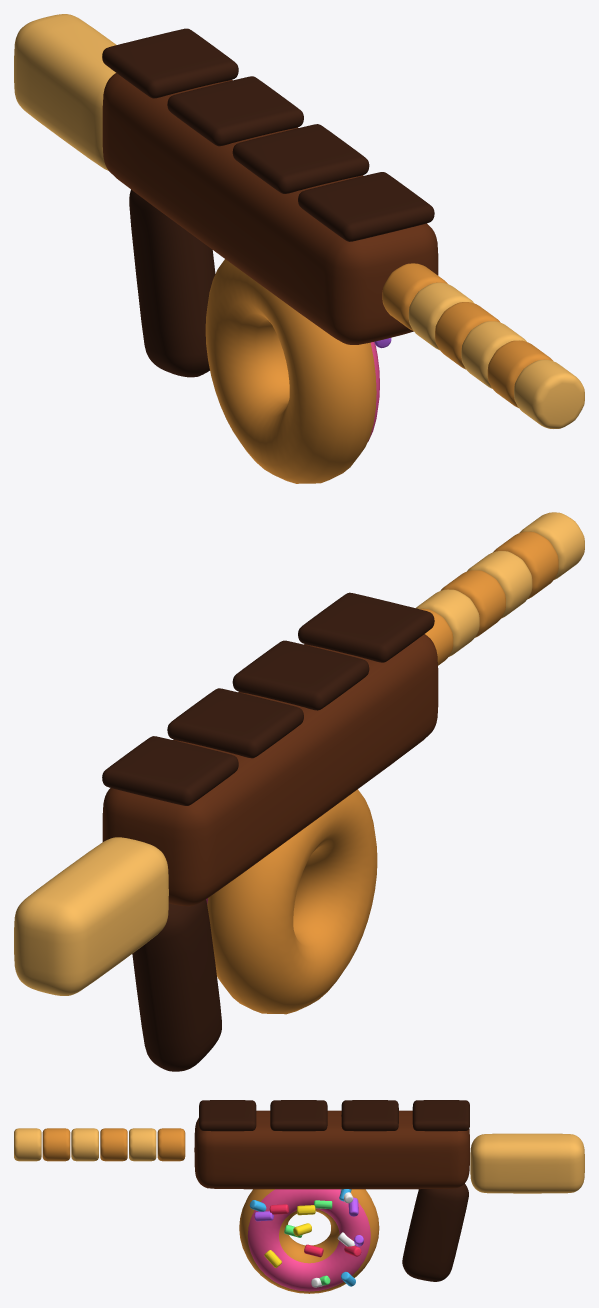
The model's file is SMG7.glb.
The picture shows the model from 3 angles, top to bottom: view 1: azimuth 30°, elevation 25°; view 2: azimuth 150°, elevation 25°; view 3: azimuth 270°, elevation 25°; orthographic projection. The views are drawn at different scales.
Visible parts, largest first — view 1: Cube, Torus, Cube.006, Cube.005, Cube.004, Cube.001, Cube.003, Cube.002, Cylinder.005, Cylinder, Cylinder.001, Cylinder.002 (+2 smaller); view 2: Cube, Torus, Cube.005, Cube.006, Cube.001, Cube.004, Cube.002, Cube.003, Cylinder.002, Cylinder.005, Cylinder.003, Cylinder.004 (+2 smaller); view 3: Cube, Cube.005, Torus.001, Cube.006, Torus, Cube.003, Cube.002, Cube.004, Cube.001, Cylinder.004, Cylinder, Cylinder.001 (+3 smaller).
Part boxes in pixels (x1,y1,x2,y2): Cube: [102, 73, 438, 344]; Torus: [205, 259, 376, 483]; Cube.006: [129, 189, 215, 377]; Cube.005: [14, 14, 116, 170]; Cube.004: [298, 172, 434, 241]; Cube.001: [102, 28, 238, 98]; Cube.003: [232, 124, 369, 193]; Cube.002: [167, 76, 303, 146]; Cylinder.005: [514, 359, 584, 428]; Cylinder: [382, 263, 447, 330]; Cylinder.001: [408, 282, 474, 350]; Cylinder.002: [435, 302, 500, 369]; Cube: [102, 634, 438, 906]; Torus: [207, 789, 377, 1014]; Cube.005: [14, 837, 168, 995]; Cube.006: [132, 899, 221, 1071]; Cube.001: [102, 736, 238, 805]; Cube.004: [298, 592, 434, 662]; Cube.002: [167, 688, 303, 758]; Cube.003: [232, 640, 369, 710]; Cylinder.002: [440, 570, 505, 637]; Cylinder.005: [519, 512, 584, 579]; Cylinder.003: [467, 551, 532, 618]; Cylinder.004: [493, 531, 558, 598]; Cube: [194, 1110, 469, 1189]; Cube.005: [470, 1133, 584, 1193]; Torus.001: [247, 1189, 370, 1291]; Cube.006: [402, 1183, 468, 1281]; Torus: [239, 1189, 379, 1293]; Cube.003: [270, 1100, 327, 1131]; Cube.002: [341, 1100, 398, 1131]; Cube.004: [199, 1100, 256, 1131]; Cube.001: [412, 1100, 469, 1131]; Cylinder.004: [42, 1128, 70, 1161]; Cylinder: [157, 1128, 185, 1161]; Cylinder.001: [129, 1128, 156, 1161].
Bounding box in the file's own units: 0.0653 × 0.174 × 0.4969.
